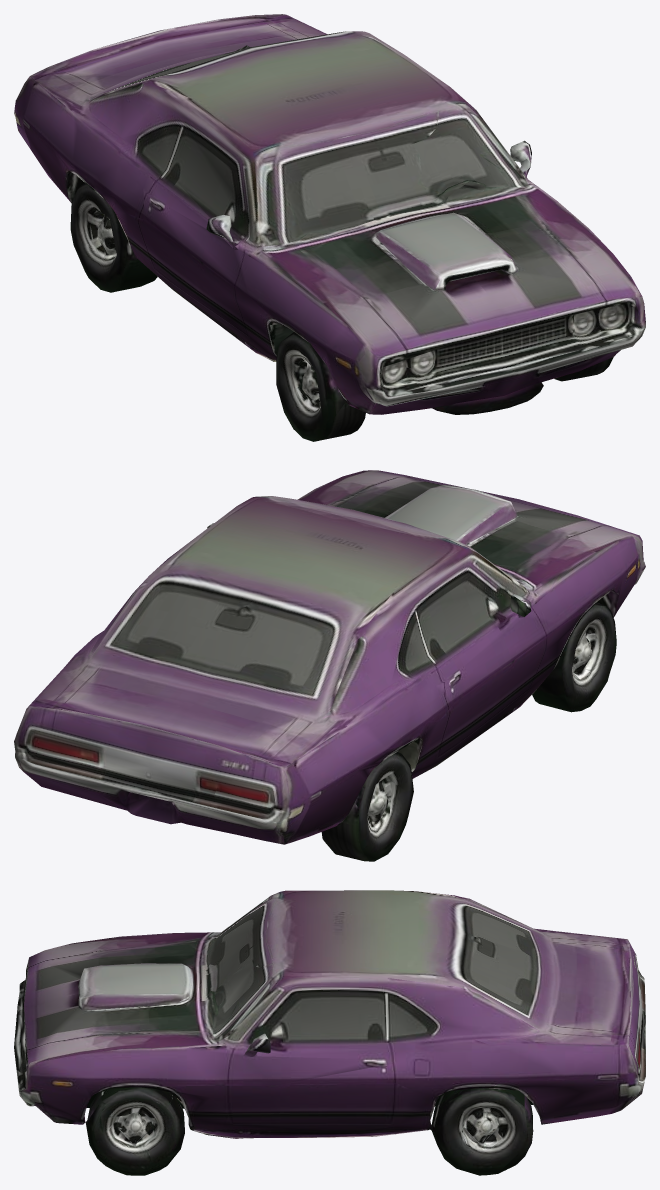
File: cuda_70.glb
3 views of the same model, one above another, from view 1: azimuth 30°, elevation 25°; view 2: azimuth 150°, elevation 25°; view 3: azimuth 270°, elevation 25° (orthographic). The views are drawn at different scales.
Parts seen in each view (by area): view 1: textured; view 2: textured; view 3: textured.
Boxes of the visible parts, box(x1,y1,x2,y2) form: textured: box(14, 14, 645, 441); textured: box(14, 470, 645, 861); textured: box(14, 890, 645, 1175).
Bounding box in the file's own units: 0.9956 × 0.6648 × 1.99.
Materials: 1 (1 with a texture image).
